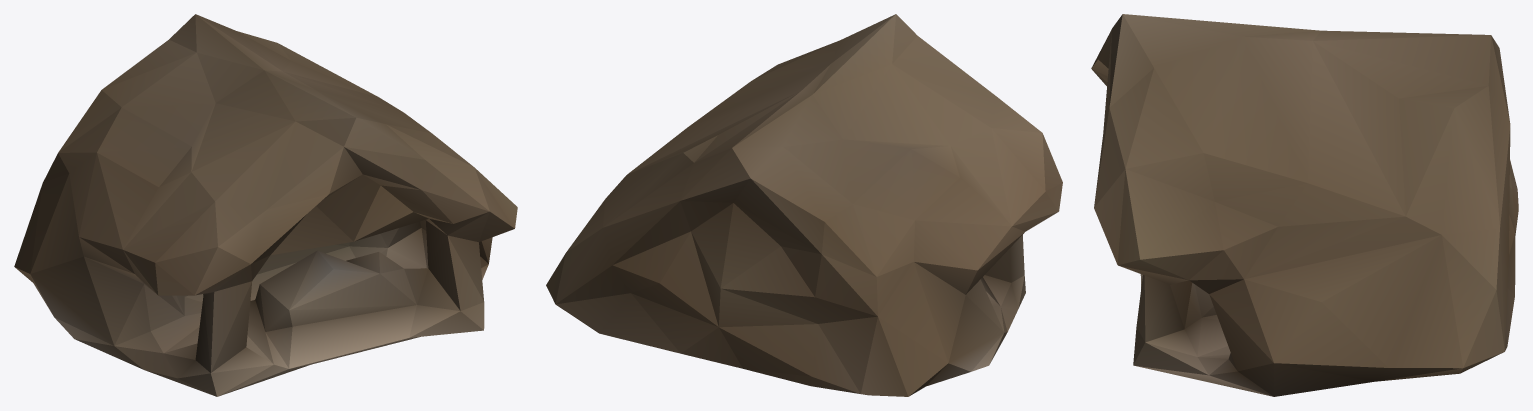
File: mason.glb
3 views of the same model, side by side, from view 1: azimuth 30°, elevation 25°; view 2: azimuth 150°, elevation 25°; view 3: azimuth 270°, elevation 25° (orthographic). The views are drawn at different scales.
Visible parts, largest first — view 1: model.001; view 2: model.001; view 3: model.001.
Part boxes in pixels (<box>): model.001: <box>14,14,517,396</box>; model.001: <box>546,14,1062,396</box>; model.001: <box>1091,14,1518,396</box>.
Bounding box in the file's own units: 1.01 × 0.6273 × 0.8438.
